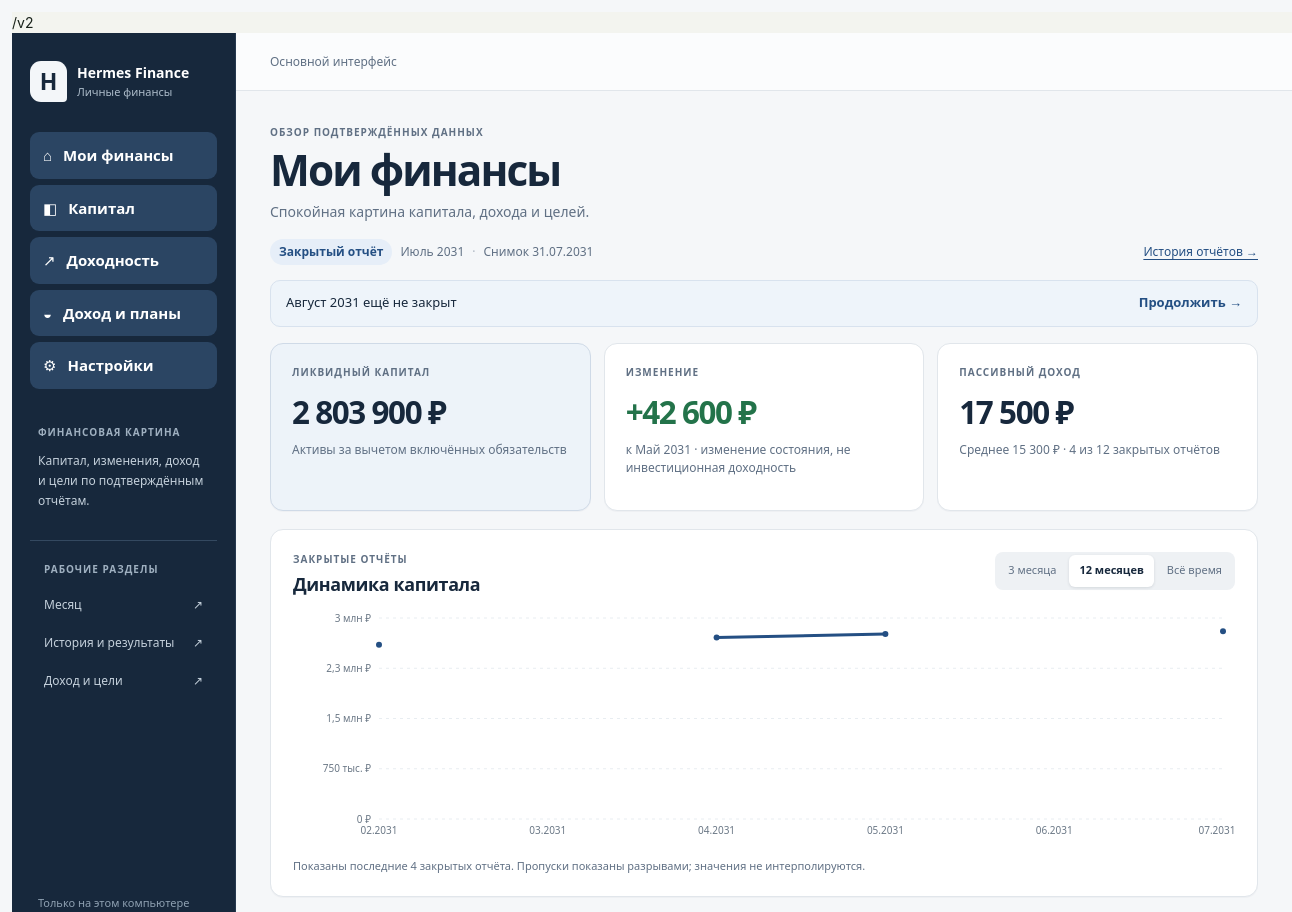
Scenario: uses last 3/12/all CLOSED report records without manufacturing calendar months
expect the text "последние 4 закрытых отчёта" is shown: met, box [293,858,865,873]
Click the button "3 месяца".
click(1032, 571)  # box [998,555,1066,587]
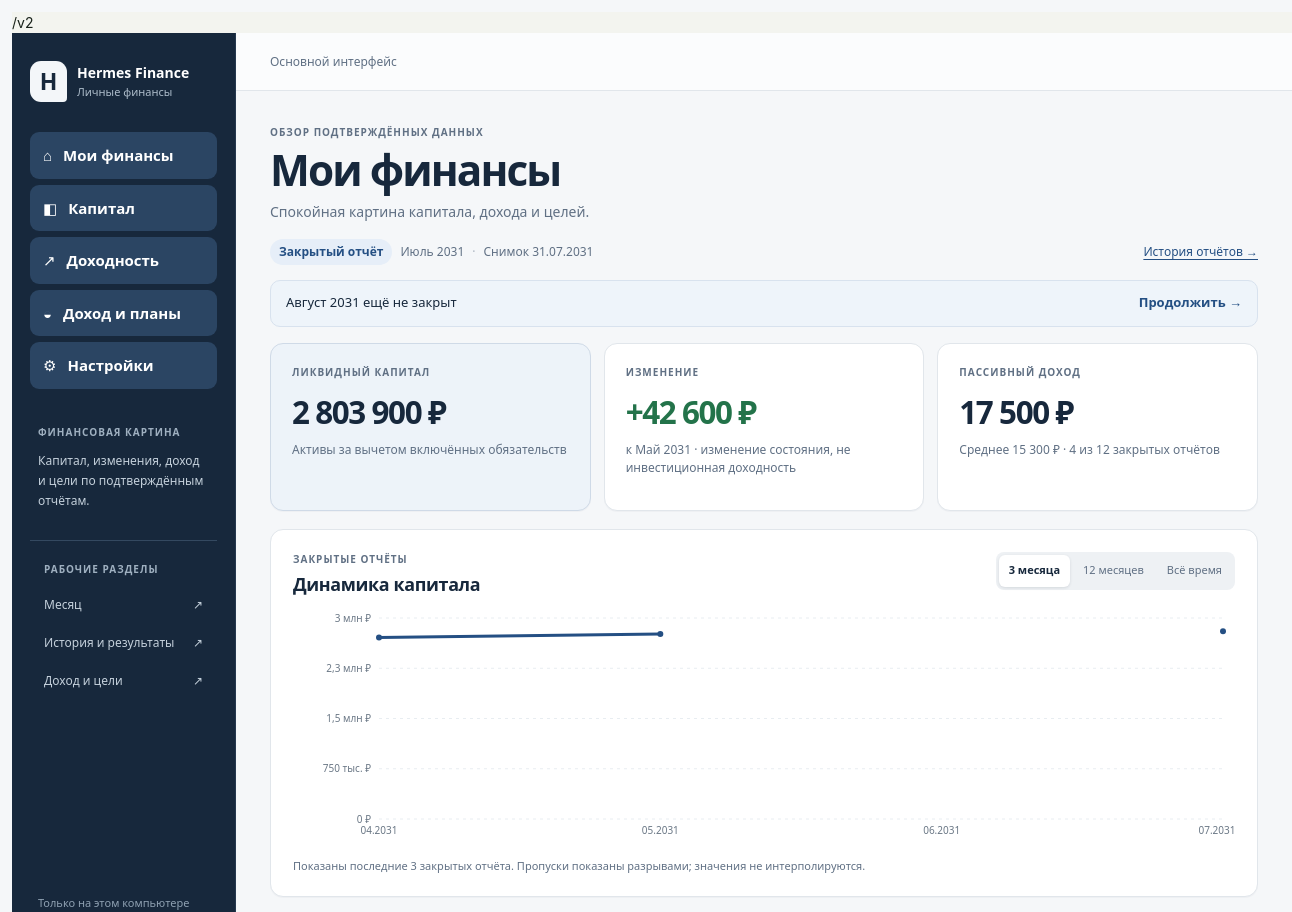
expect the button "12 месяцев" is shown: met, box [1073,555,1154,587]
expect the text "последние 3 закрытых отчёта" is shown: met, box [293,858,865,873]
